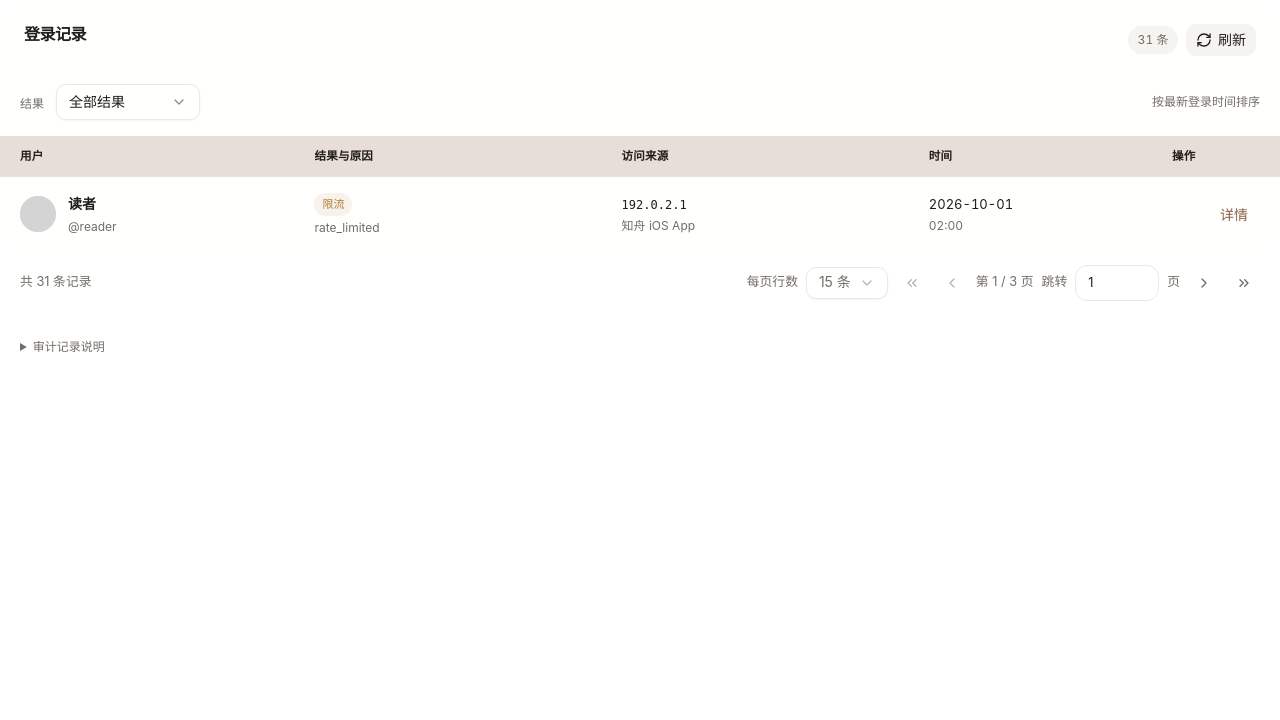
Test: 账户审计目录 › 知舟 iOS App 在登录列表和详情中识别，保留完整原始 UA
This screenshot has width=1280, height=720.
Expected: the text "知舟 iOS App" is shown, [622,218,695,233]
What coordinates should you click on to do the following:
click the button with aria-label "查看读者的登录记录详情"
I would click on:
 (1234, 214)
Its box is [1208,198,1260,230].
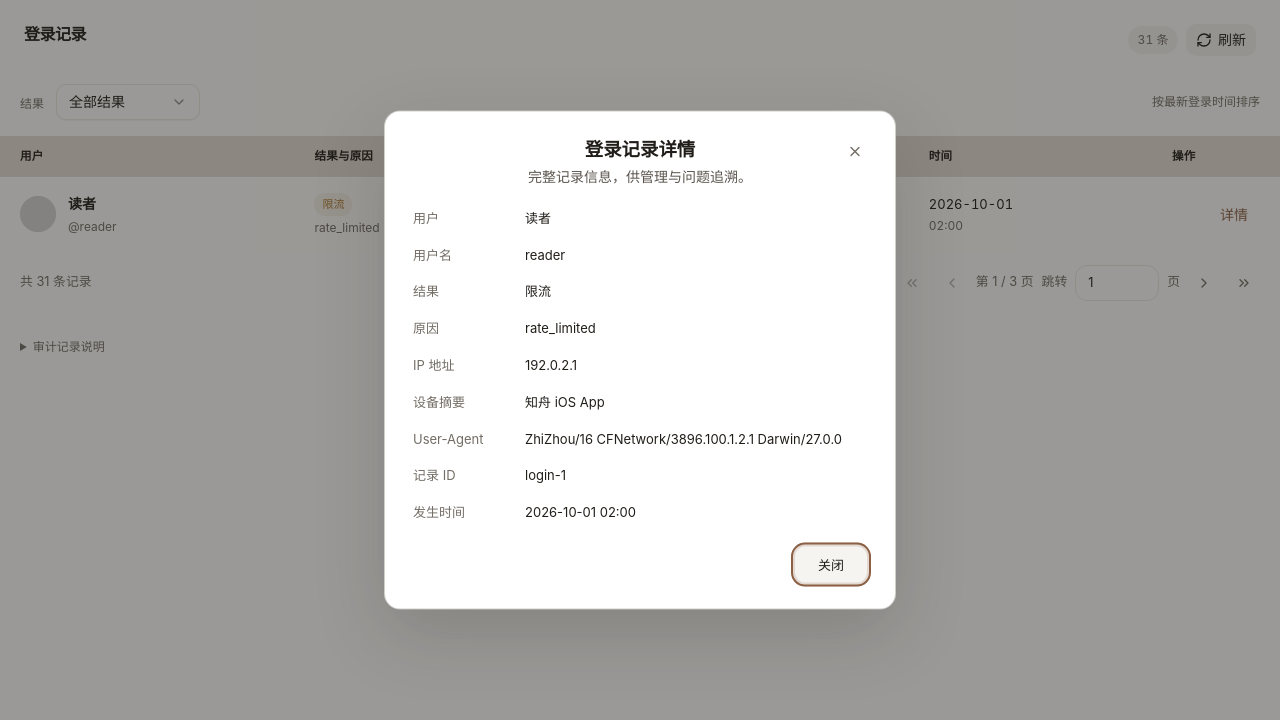
Now the text "知舟 iOS App" is shown, box [525,393,605,409]
Now the text "ZhiZhou/16 CFNetwork/3896.100.1.2.1 Darwin/27.0.0" is shown, box [525,428,867,449]
